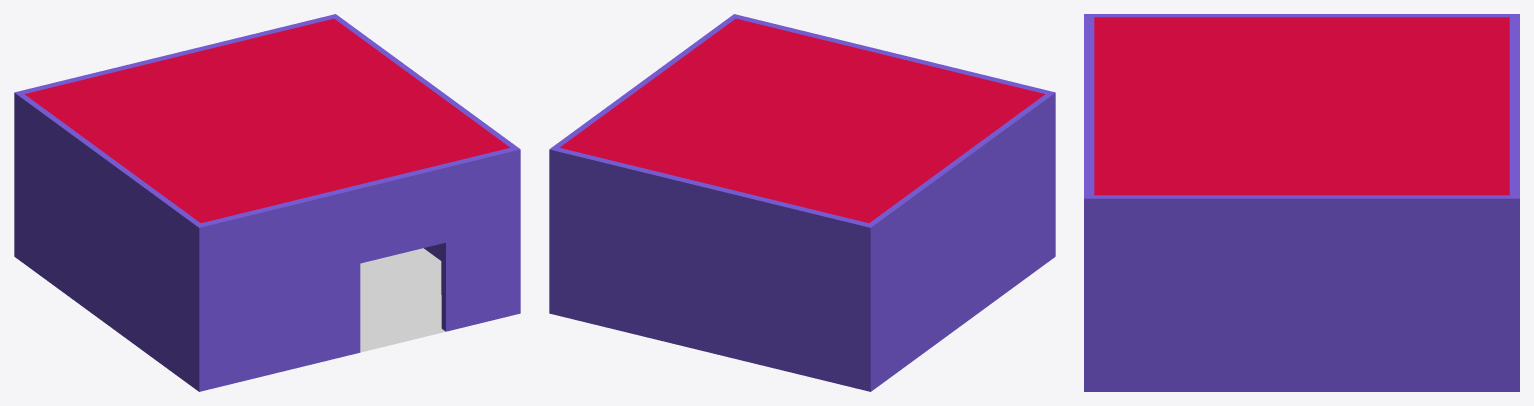
Rendered from tutorial_stanza.fbx.
3 renders of one model, left to right at view 1: azimuth 30°, elevation 25°; view 2: azimuth 150°, elevation 25°; view 3: azimuth 270°, elevation 25°, orthographic. The views are drawn at different scales.
Visible parts, largest first — view 1: Cube; view 2: Cube; view 3: Cube.
Part boxes in pixels (box(x1,y1,x2,y2)): Cube: box(14, 14, 520, 391); Cube: box(549, 14, 1055, 391); Cube: box(1084, 14, 1519, 391).
Size of the model in its own units: 7260 by 3539 by 7234.
